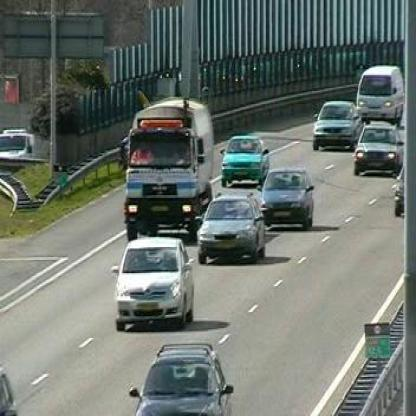other: (134, 104, 190, 140), (116, 266, 160, 295), (129, 234, 176, 252), (129, 148, 152, 171), (367, 63, 393, 77)
